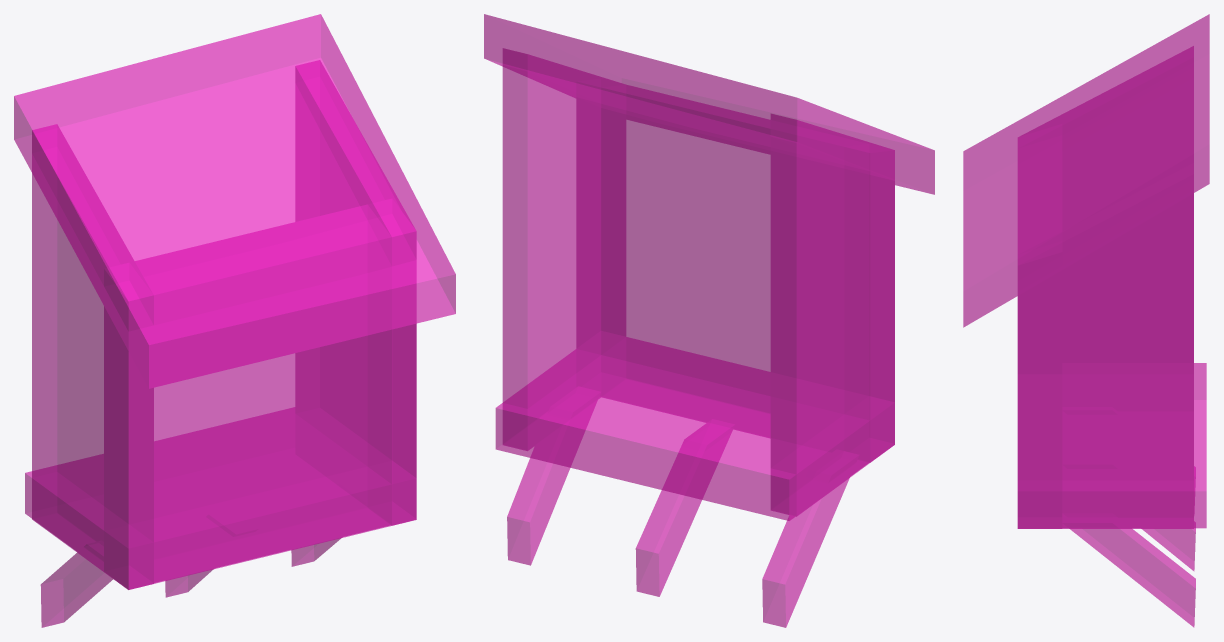
Rendered from SM_Bld_Balcony_04_Collision.fbx.
3 views of the same model, side by side, from view 1: azimuth 30°, elevation 25°; view 2: azimuth 150°, elevation 25°; view 3: azimuth 270°, elevation 25° (orthographic). The views are drawn at different scales.
Visible parts, largest first — view 1: SM_Bld_Balcony_04_Collision; view 2: SM_Bld_Balcony_04_Collision; view 3: SM_Bld_Balcony_04_Collision.
Boxes of the visible parts, x1,y1,x2,y2 form: SM_Bld_Balcony_04_Collision: (14, 14, 455, 627); SM_Bld_Balcony_04_Collision: (484, 14, 934, 627); SM_Bld_Balcony_04_Collision: (963, 14, 1209, 627).
Size of the model in its own units: 261 by 437 by 199.
